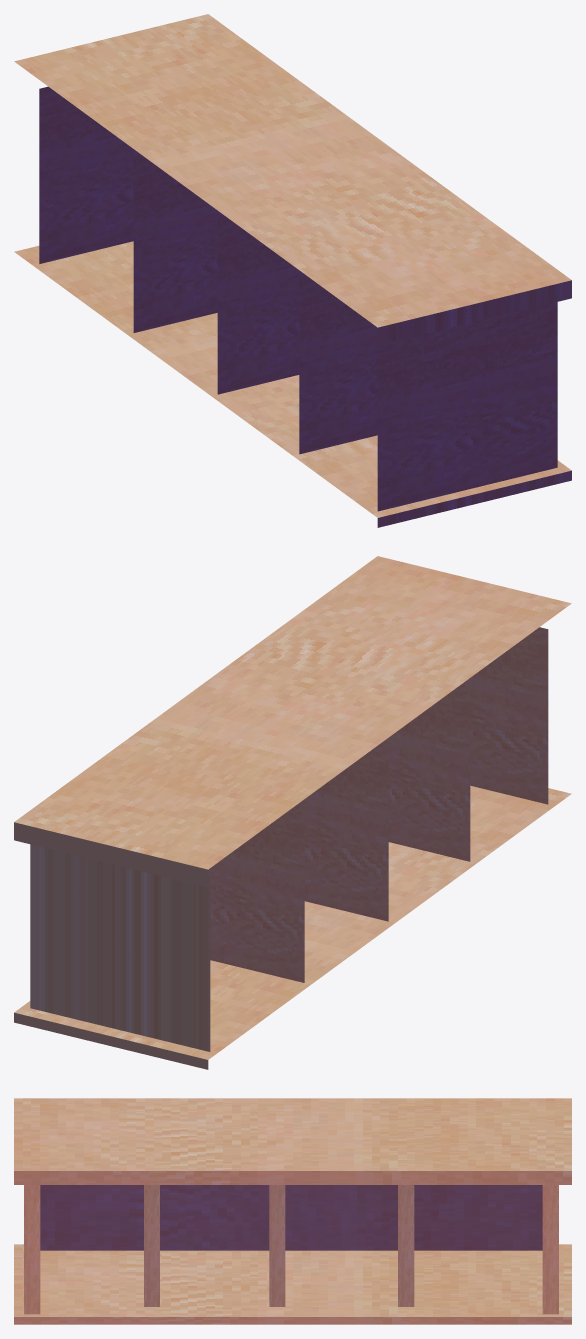
3 renders of one model, top to bottom at view 1: azimuth 30°, elevation 25°; view 2: azimuth 150°, elevation 25°; view 3: azimuth 270°, elevation 25°, orthographic. The views are drawn at different scales.
Visible parts, largest first — view 1: Joint_0_Object_0; view 2: Joint_0_Object_0; view 3: Joint_0_Object_0.
Part boxes in pixels (x1,y1,x2,y2): Joint_0_Object_0: (14,14,571,527); Joint_0_Object_0: (14,556,571,1069); Joint_0_Object_0: (14,1098,571,1324).
Size of the model in its own units: 1021 by 1006 by 3310.
1 material, 1 textured.
